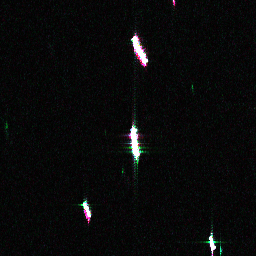ship: (127, 33, 151, 67), (127, 124, 141, 160), (80, 199, 93, 219), (206, 233, 218, 252)
